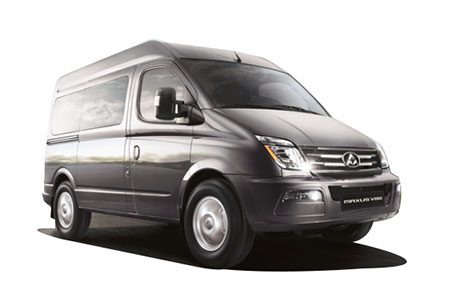van: (41, 37, 404, 270)
